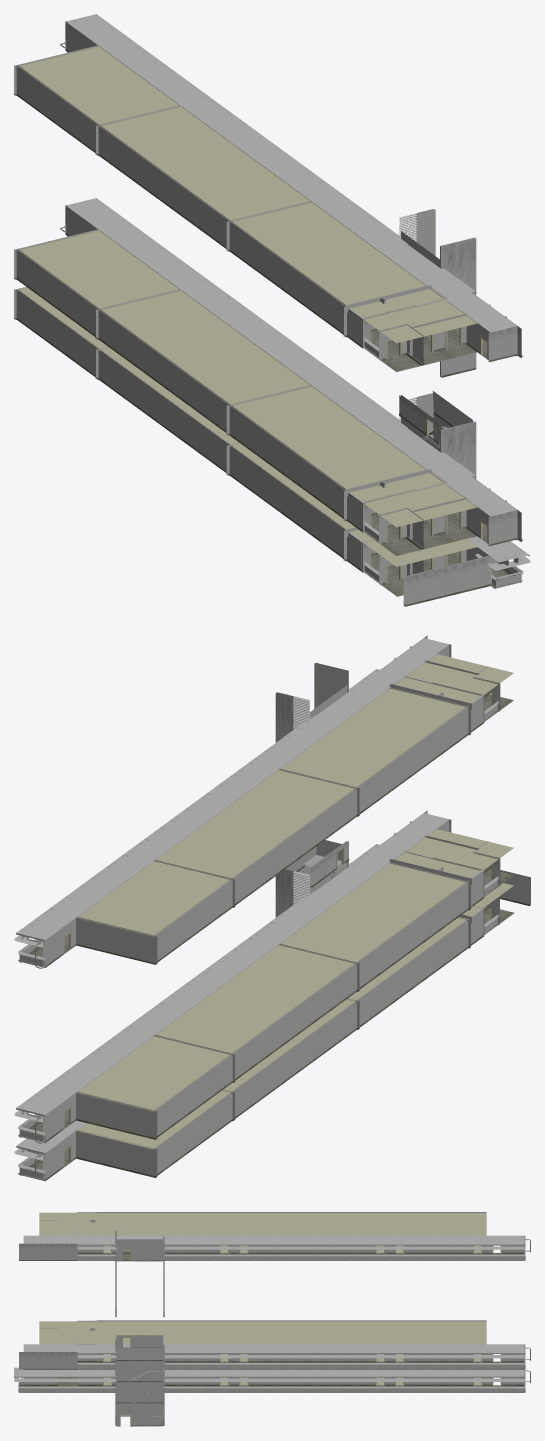
Rendered from buildingR3.fbx.
The picture shows the model from 3 angles, top to bottom: view 1: azimuth 30°, elevation 25°; view 2: azimuth 150°, elevation 25°; view 3: azimuth 270°, elevation 25°; orthographic projection. The views are drawn at different scales.
Parts seen in each view (by area): view 1: Fri_Add9, Roof6, Room11, Room5, Room4, Room10, Room12, Room6, Room2, Room1, BanSai_Room3, BanSai_Room2 (+2 smaller); view 2: Fri_Add9, Roof6, Room5, Room11, Room10, Room4, Room6, Room12, Room3, Room2, Room1, BanSai_Room2 (+3 smaller); view 3: Fri_Add9, Roof6, Floor2, Floor1, BanSai_Room3, Room5, Room11, Room10, Room4, Room6, Room12, BanSai_Room2.
Part boxes in pixels (left/top/right/bottom): Fri_Add9: left=60, top=198, right=530, bottom=606; Roof6: left=60, top=14, right=523, bottom=371; Room11: left=98, top=106, right=312, bottom=251; Room5: left=98, top=290, right=312, bottom=435; Room4: left=228, top=386, right=425, bottom=521; Room10: left=228, top=202, right=425, bottom=337; Room12: left=14, top=45, right=181, bottom=155; Room6: left=14, top=229, right=181, bottom=339; Room2: left=98, top=347, right=240, bottom=475; Room1: left=230, top=444, right=377, bottom=561; BanSai_Room3: left=399, top=391, right=476, bottom=479; BanSai_Room2: left=399, top=209, right=476, bottom=377; Fri_Add9: left=14, top=810, right=530, bottom=1179; Roof6: left=14, top=635, right=513, bottom=968; Room5: left=155, top=944, right=359, bottom=1080; Room11: left=155, top=769, right=359, bottom=905; Room10: left=280, top=687, right=470, bottom=814; Room4: left=280, top=862, right=470, bottom=989; Room6: left=76, top=1035, right=235, bottom=1139; Room12: left=76, top=860, right=235, bottom=964; Room3: left=76, top=1089, right=235, bottom=1177; Room2: left=223, top=998, right=359, bottom=1118; Room1: left=348, top=917, right=470, bottom=1027; BanSai_Room2: left=275, top=662, right=348, bottom=742; Fri_Add9: left=14, top=1320, right=530, bottom=1392; Roof6: left=19, top=1212, right=530, bottom=1261; Floor2: left=97, top=1344, right=525, bottom=1369; Floor1: left=97, top=1369, right=525, bottom=1392; BanSai_Room3: left=115, top=1335, right=164, bottom=1426; Room5: left=233, top=1320, right=389, bottom=1361; Room11: left=233, top=1212, right=389, bottom=1252; Room10: left=97, top=1212, right=233, bottom=1252; Room4: left=97, top=1320, right=233, bottom=1361; Room6: left=389, top=1320, right=486, bottom=1361; Room12: left=389, top=1212, right=486, bottom=1252; BanSai_Room2: left=115, top=1230, right=164, bottom=1317.
Bounding box in the file's own units: 17.84 × 35.78 × 89.97.
